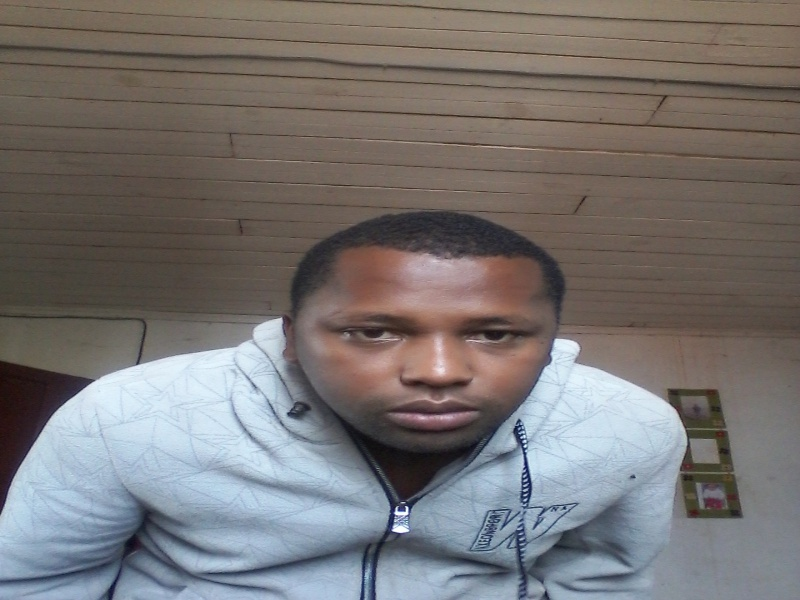TsisyArotava: (270, 211, 589, 470)
